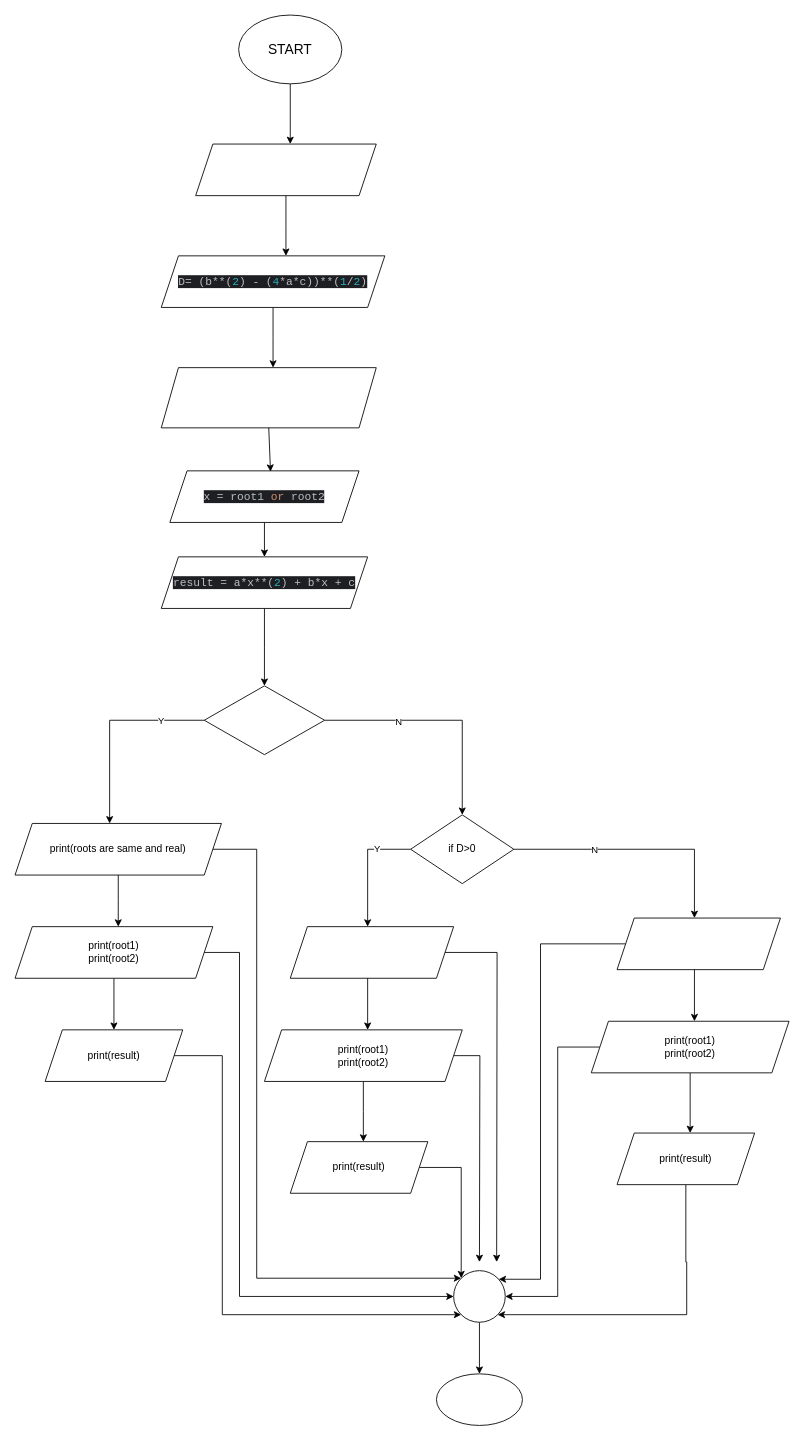
The diagram is 804 pixels wide and 1441 high, and some of its shapes have lost their labels. Here are the shapes that lost their labels. From the top down, the centre of each, then its label:
At point 285,169: "enter coefficient x enter coefficient of x**2 enter constant C".
At point 268,397: "root1= (-b + D)/ ( 2 *a) root2= (-b - D)/ ( 2 *a)".
At point 264,720: "if D==0".
At point 371,952: "print(roots are real and distinct)".
At point 698,943: "print(roots are imaginary or complex)".
At point 479,1399: "STOP".
